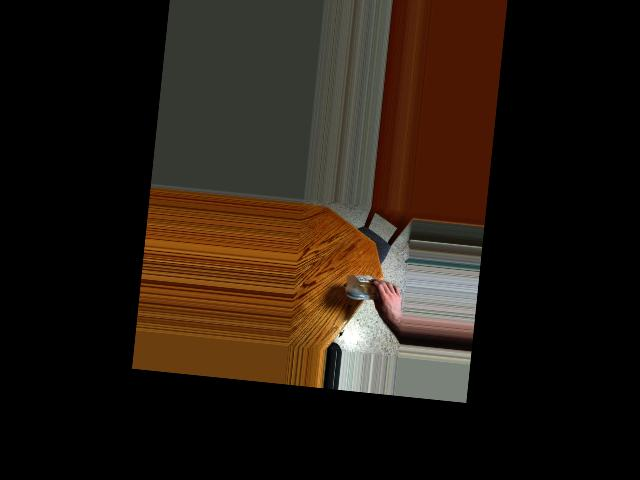cheese: (339, 266, 389, 311)
